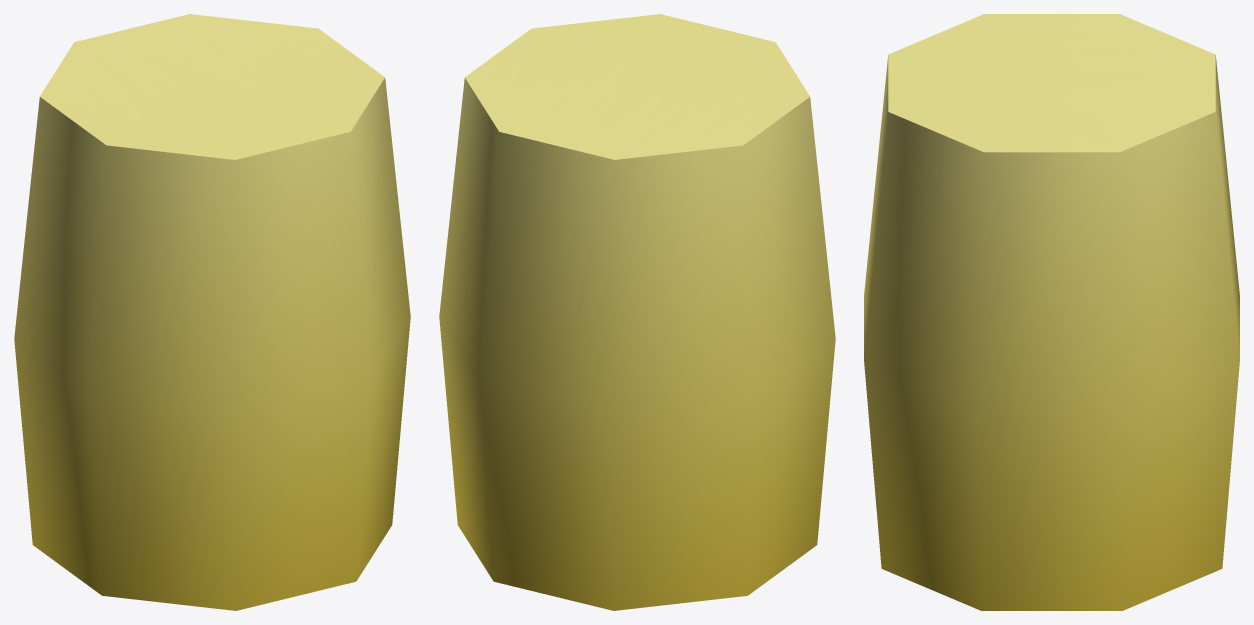
Rendered from mug_glass_content_beer.fbx.
3 views of the same model, side by side, from view 1: azimuth 30°, elevation 25°; view 2: azimuth 150°, elevation 25°; view 3: azimuth 270°, elevation 25° (orthographic).
Visible parts, largest first — view 1: mug_glass_content_beer; view 2: mug_glass_content_beer; view 3: mug_glass_content_beer.
Boxes of the visible parts, <box> form: mug_glass_content_beer: <box>14,14,410,610</box>; mug_glass_content_beer: <box>439,14,835,610</box>; mug_glass_content_beer: <box>864,14,1239,610</box>.
Size of the model in its own units: 16.16 by 21.62 by 16.16.
